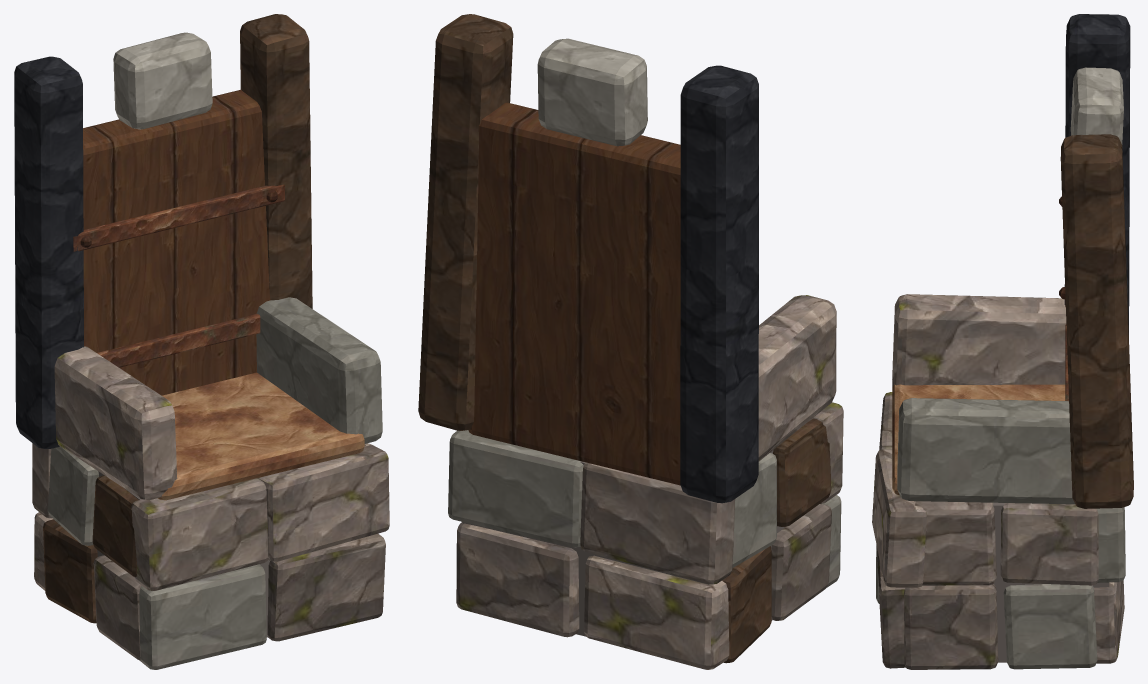
The model's file is stone_throne.glb.
3 views of the same model, side by side, from view 1: azimuth 30°, elevation 25°; view 2: azimuth 150°, elevation 25°; view 3: azimuth 270°, elevation 25° (orthographic). The views are drawn at different scales.
Parts seen in each view (by area): view 1: model; view 2: model; view 3: model.
Part boxes in pixels (x1,y1,x2,y2): model: (14,14,389,669); model: (418,14,843,669); model: (872,14,1133,669).
Bounding box in the file's own units: 0.8171 × 1.47 × 0.6511.
Materials: 12 (11 with a texture image).
